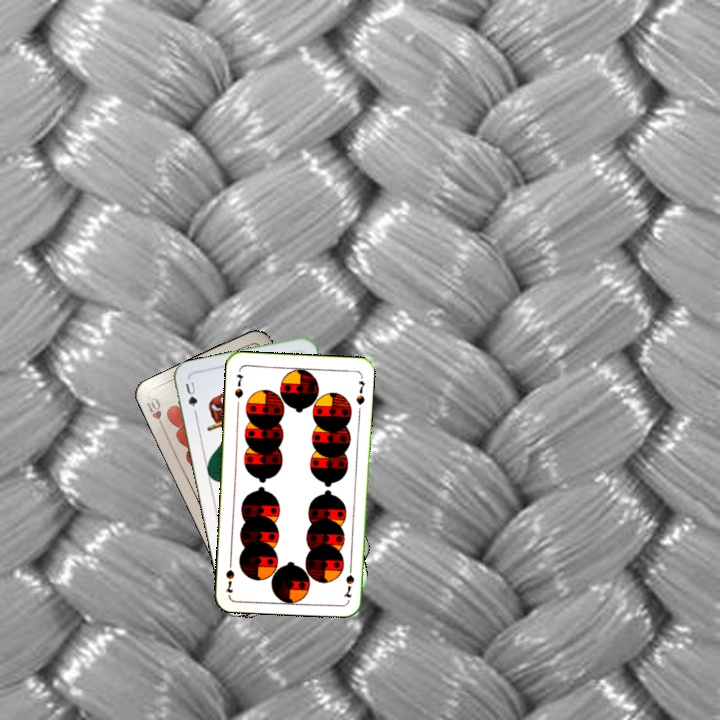GU: (181, 378, 200, 416)
H10: (141, 392, 167, 433)
S7: (340, 561, 357, 600), (231, 370, 246, 401)
